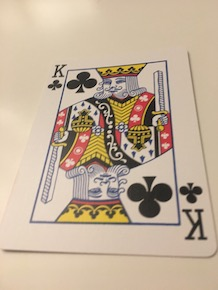KingOfClubs: (1, 45, 217, 261)
